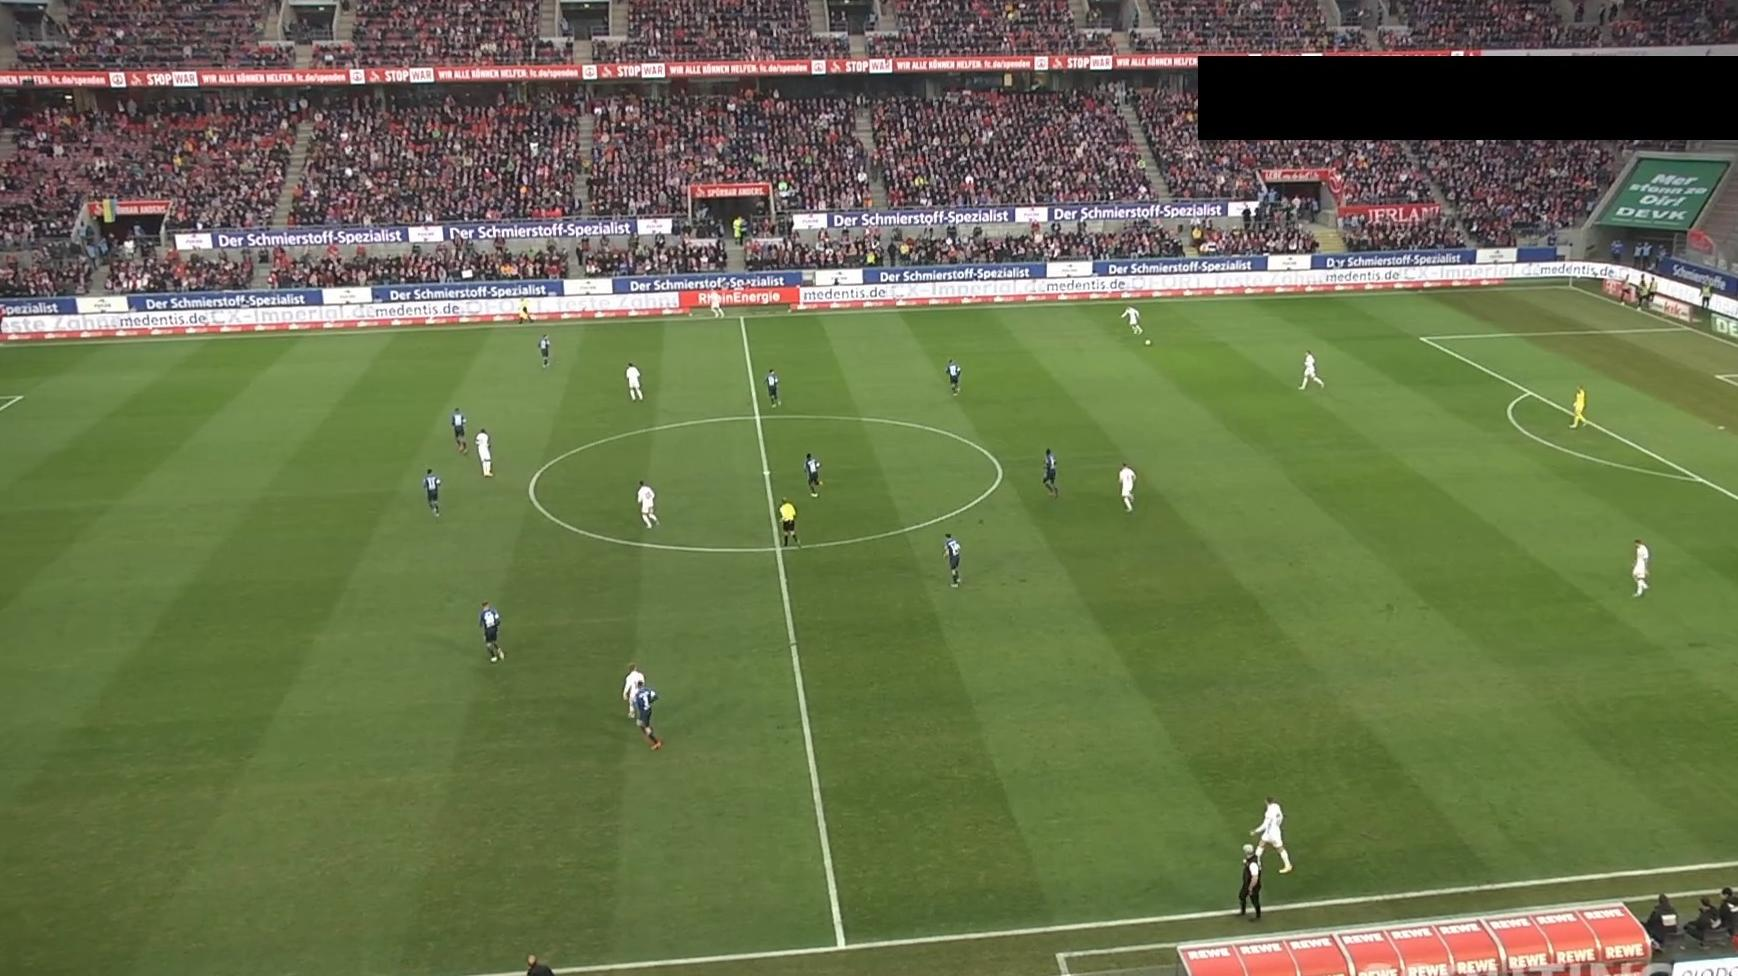ball: (1142, 338, 1152, 347)
